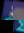recallP: (0, 0, 13, 20), (13, 20, 24, 33)
